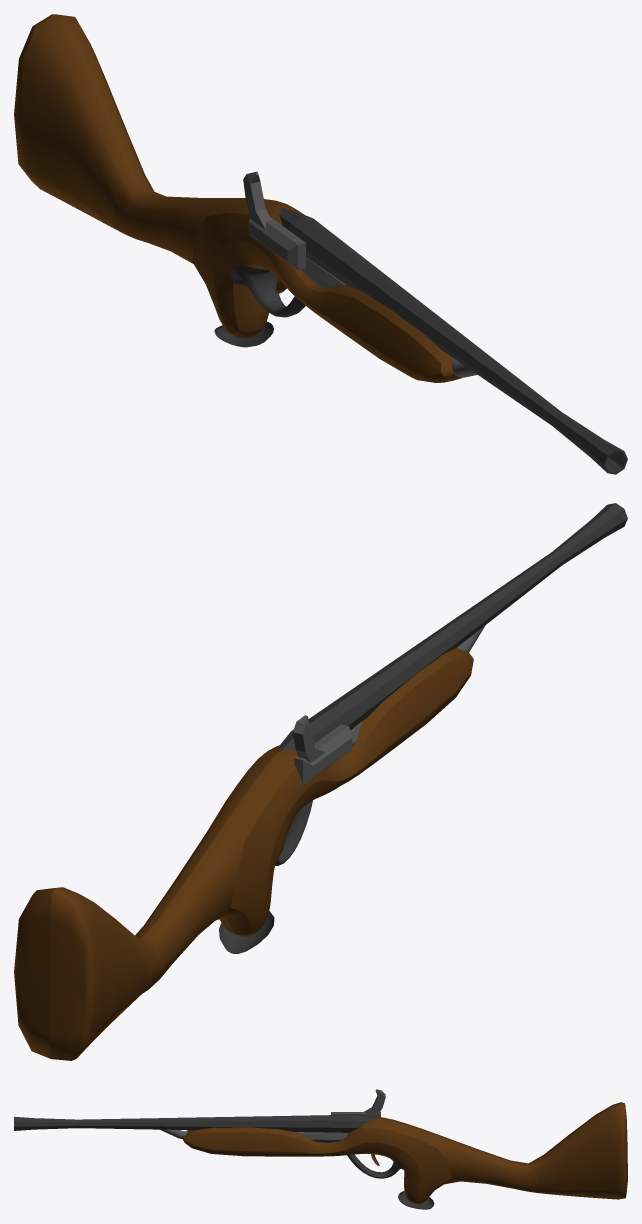
The model's file is arma_1_02.fbx.
The picture shows the model from 3 angles, top to bottom: view 1: azimuth 30°, elevation 25°; view 2: azimuth 150°, elevation 25°; view 3: azimuth 270°, elevation 25°; orthographic projection. The views are drawn at different scales.
Parts seen in each view (by area): view 1: 2; view 2: 2; view 3: 2.
Boxes of the visible parts, box(x1,y1,x2,y2) form: 2: box(14, 14, 627, 474); 2: box(14, 503, 627, 1060); 2: box(14, 1089, 627, 1209).
Bounding box in the file's own units: 9.52 × 23.97 × 118.
